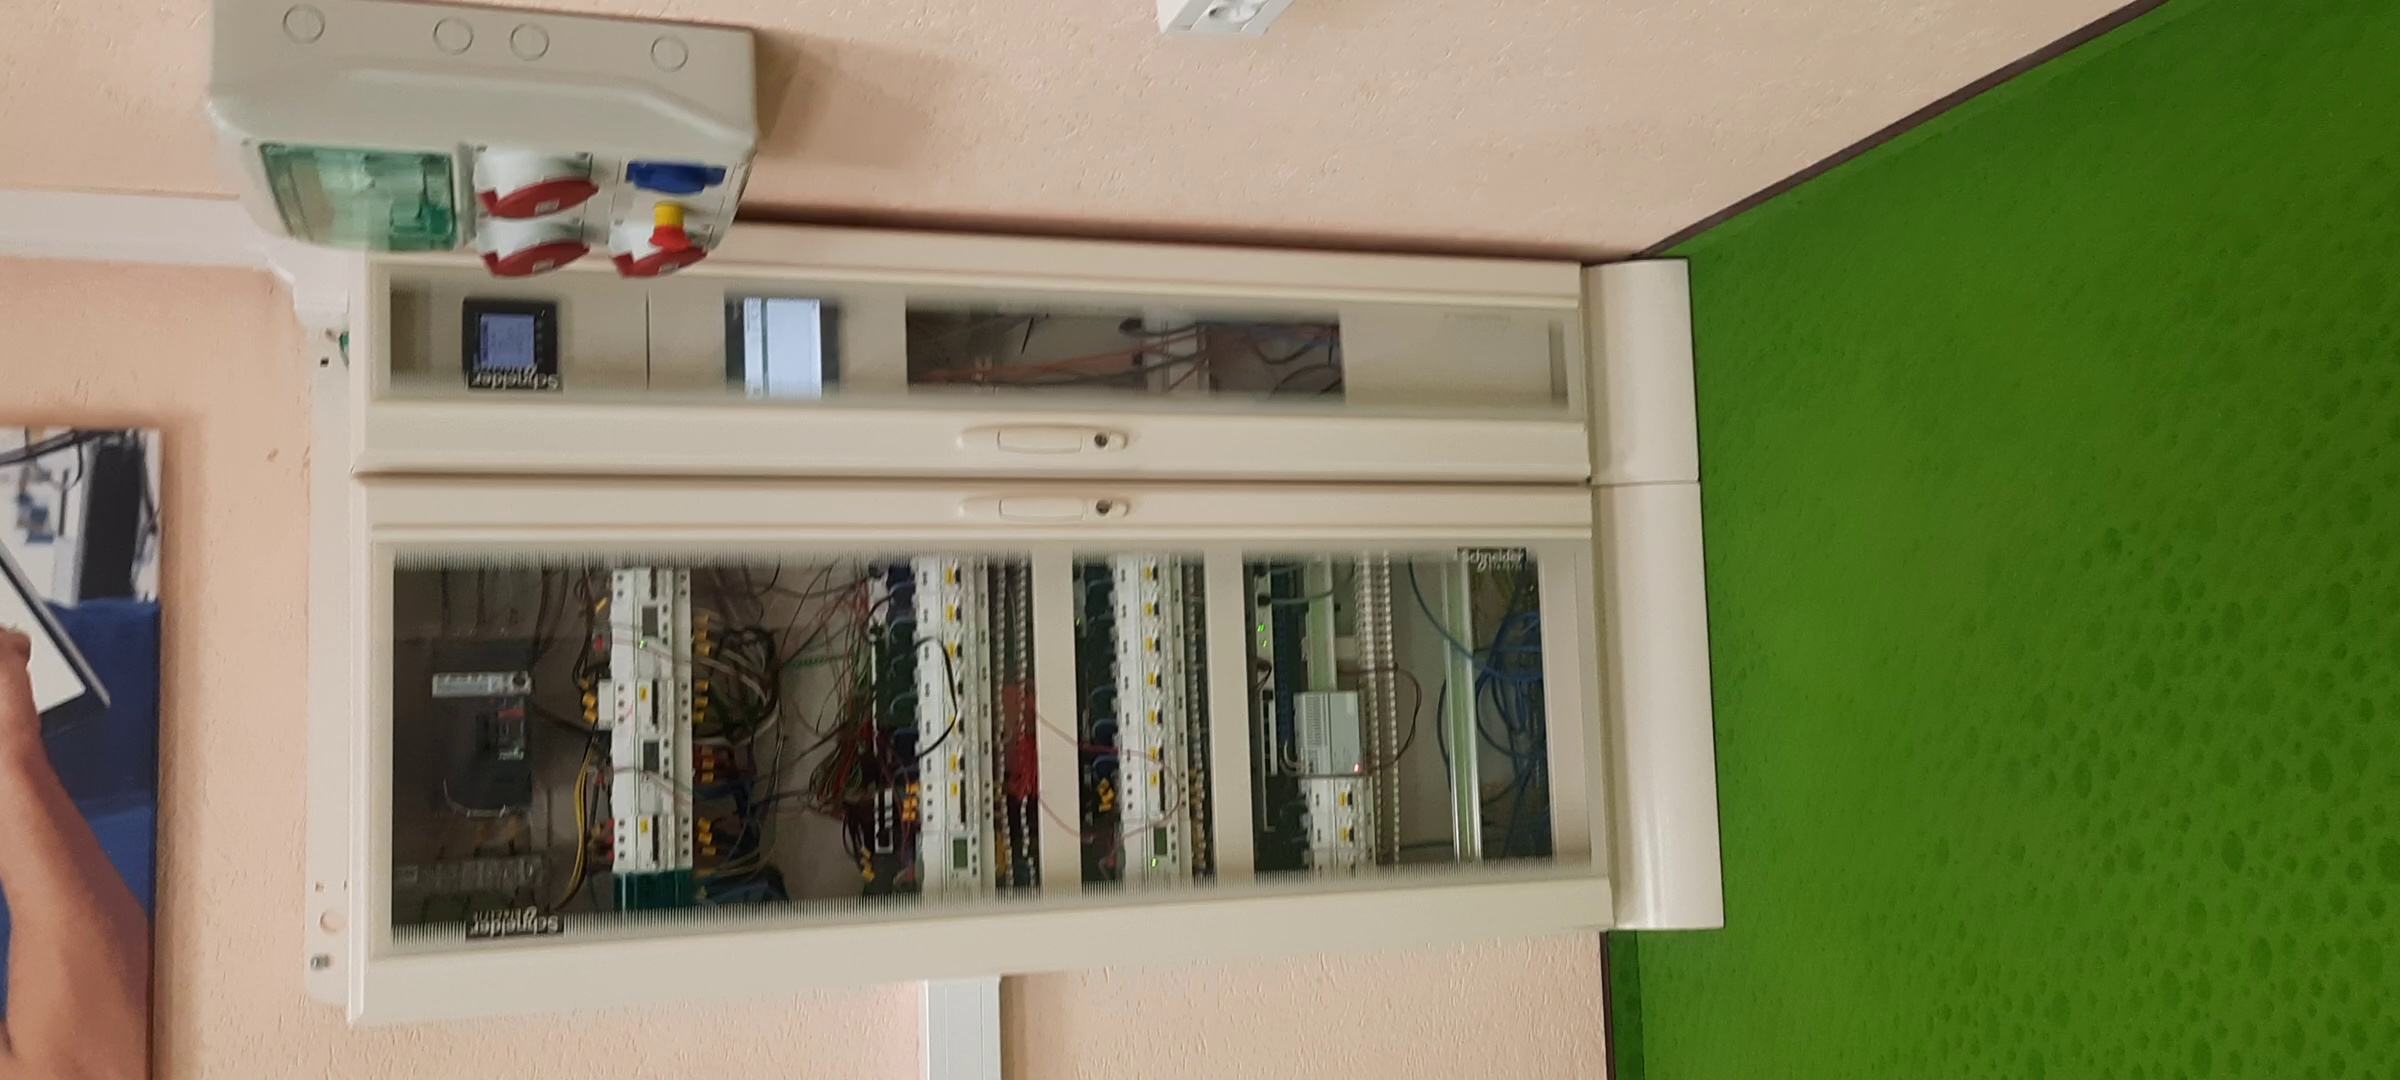stand1: (286, 245, 1734, 1016)
